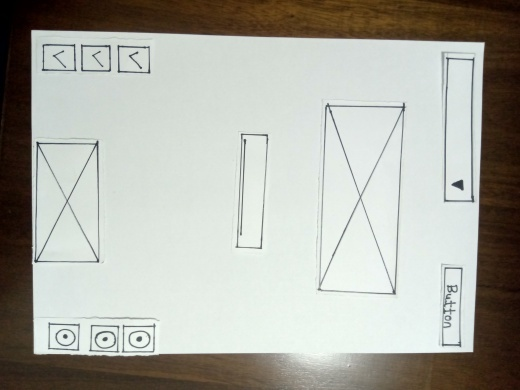button: (442, 263, 462, 346)
checkbox: (44, 42, 78, 70), (81, 44, 113, 72), (118, 44, 150, 72)
dropdown: (448, 57, 473, 207)
img: (323, 105, 396, 293), (34, 141, 98, 265)
radio: (48, 324, 78, 352), (88, 324, 118, 352), (123, 325, 153, 353)
text: (239, 135, 262, 251)
